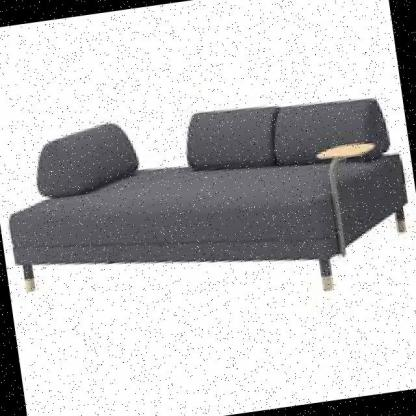Sofa: (0, 65, 416, 330)
